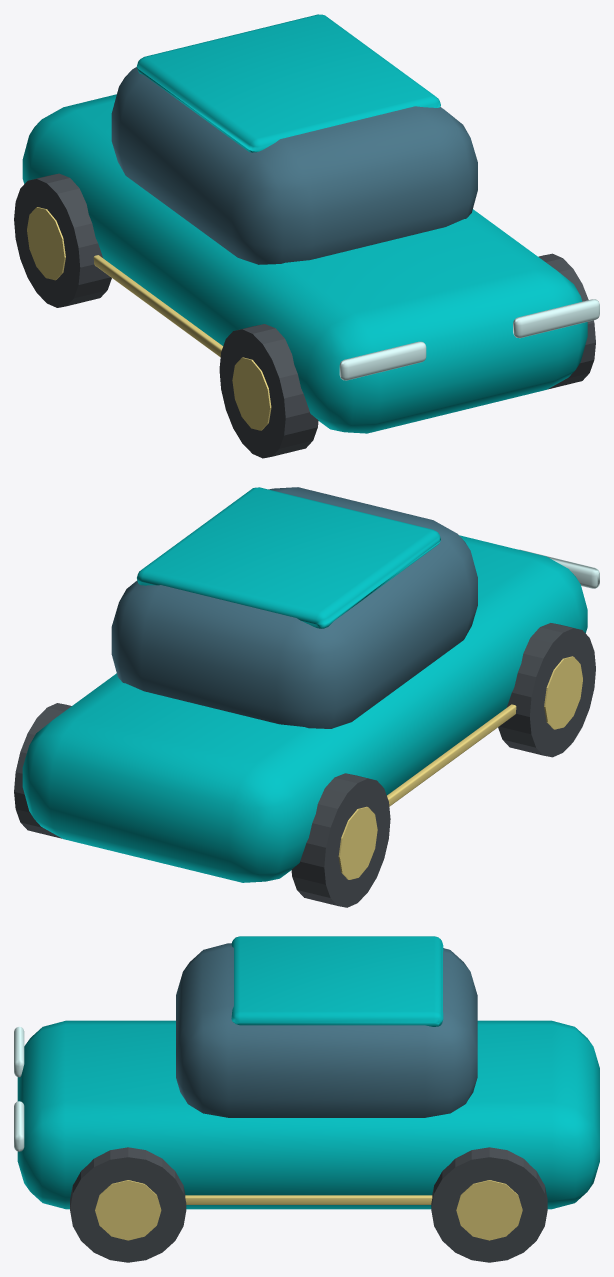
The model's file is electric_car.glb.
3 views of the same model, one above another, from view 1: azimuth 30°, elevation 25°; view 2: azimuth 150°, elevation 25°; view 3: azimuth 270°, elevation 25° (orthographic). The views are drawn at different scales.
Visible parts, largest first — view 1: Cylinder.002; view 2: Cylinder.002; view 3: Cylinder.002.
Boxes of the visible parts, x1,y1,x2,y2 form: Cylinder.002: (14, 14, 599, 458); Cylinder.002: (14, 487, 599, 907); Cylinder.002: (14, 936, 599, 1262).
Bounding box in the file's own units: 2.13 × 1.64 × 3.93.
